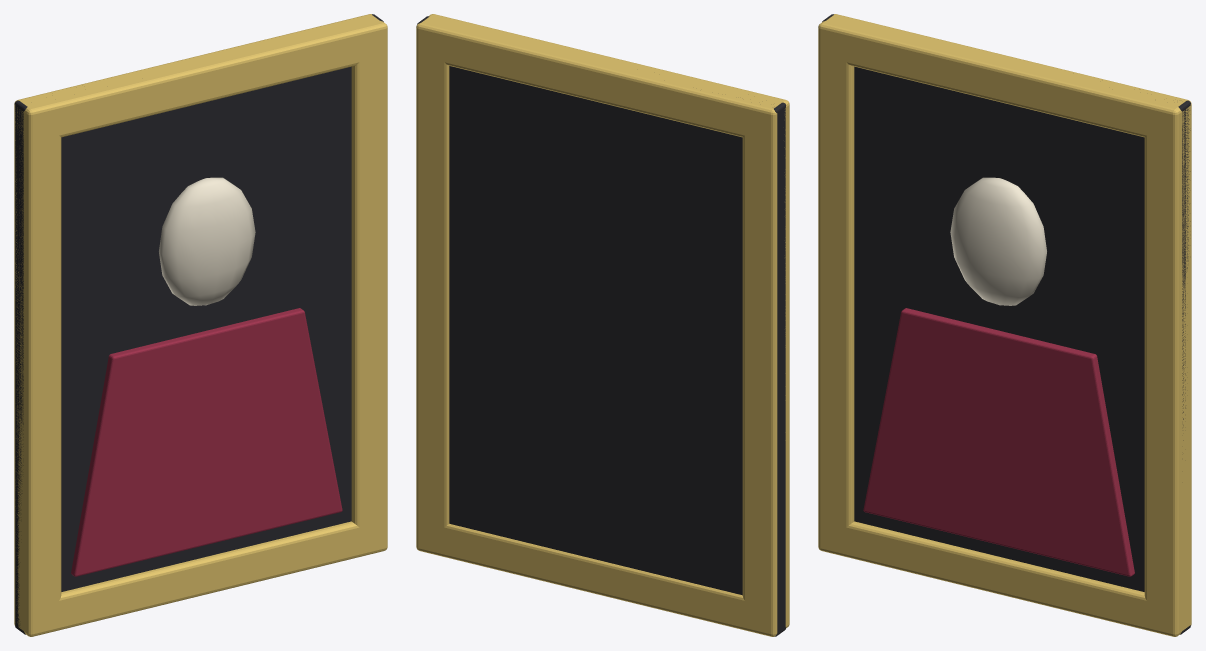
Rendered from portrait.glb.
3 renders of one model, left to right at view 1: azimuth 30°, elevation 25°; view 2: azimuth 150°, elevation 25°; view 3: azimuth 330°, elevation 25°, orthographic.
Visible parts, largest first — view 1: GD_portrait; view 2: GD_portrait; view 3: GD_portrait.
Part boxes in pixels (x1,y1,x2,y2): GD_portrait: [14, 14, 387, 636]; GD_portrait: [416, 14, 789, 636]; GD_portrait: [818, 14, 1191, 636].
Size of the model in its own units: 0.75 by 1.05 by 0.094.
